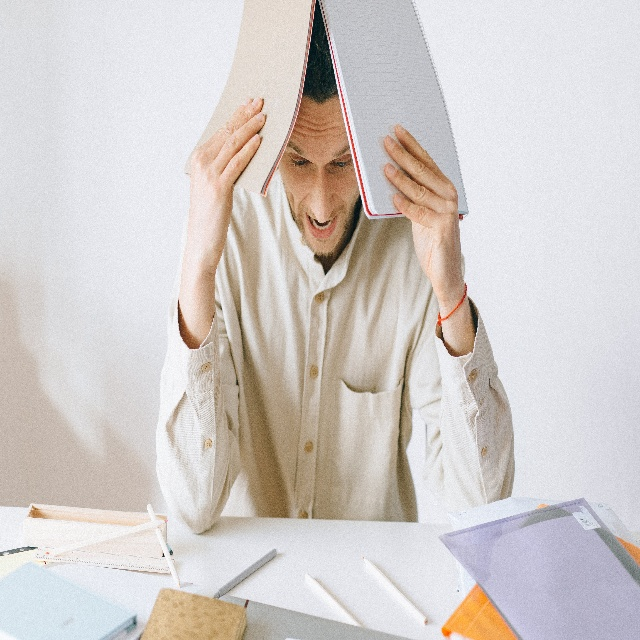Sin_guantes: (183, 94, 266, 271), (382, 121, 462, 298)
